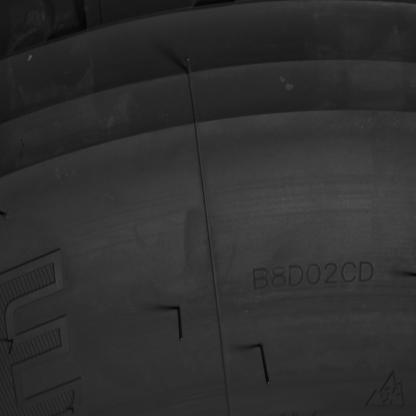ocr: (251, 260, 375, 293)
